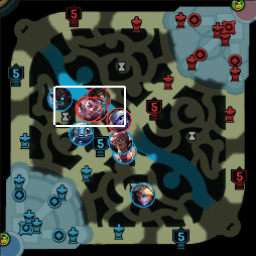ezreal: (130, 182, 155, 208)
fiddlesticks: (87, 87, 110, 111)
fizz: (68, 121, 94, 144)
leesin: (112, 141, 137, 164)
maokai: (47, 86, 72, 110)
rakan: (75, 98, 101, 122)
sett: (108, 131, 133, 154)
tristana: (106, 107, 132, 133)
